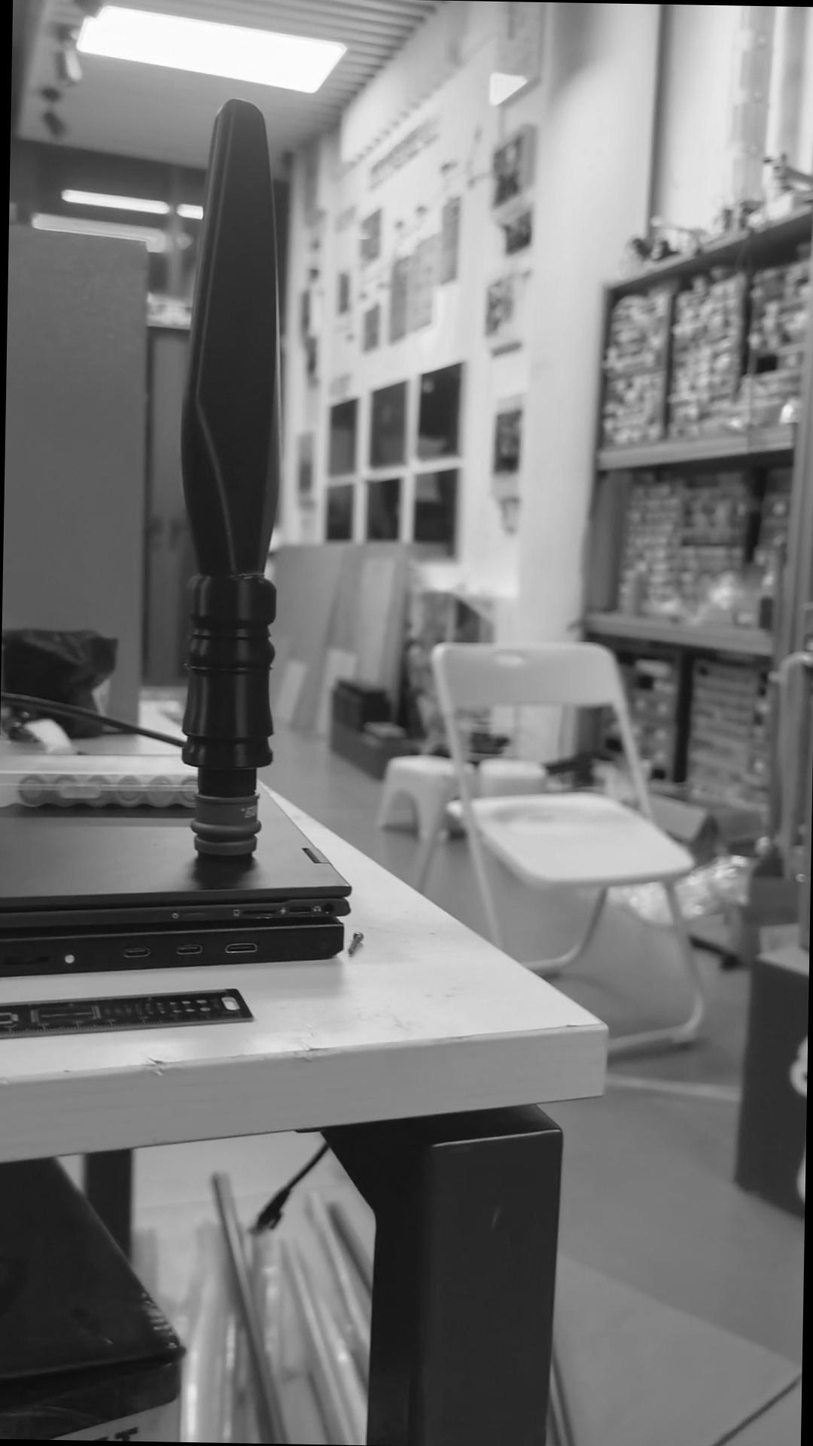base: (173, 785, 277, 882)
